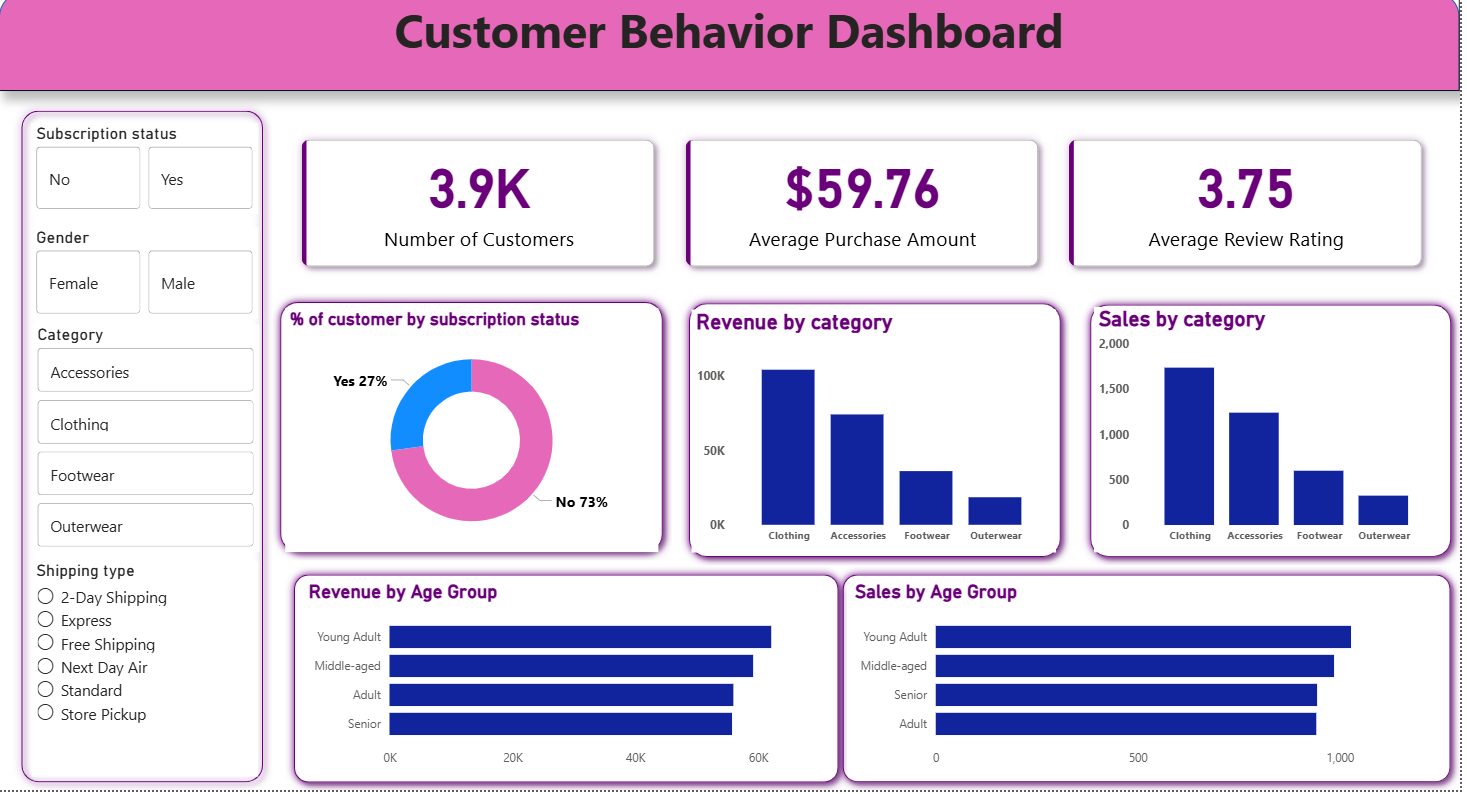

The page's visual inventory and layout, read from the dashboard file:
{"tool":"powerbi","page":{"name":"Page 1","canvas":[1500,820],"ordinal":0},"visuals":[{"type":"cardVisual","fields":{"Data":["customer_behavior customer.Number of Customers","customer_behavior customer.Average Purchase Amount","customer_behavior customer.Average Review Rating"]},"box":[293.9,135.1,1186.6,164.3],"z":0},{"type":"shape","box":[0,0,1499.9,101.7],"z":1000},{"type":"textbox","box":[0,0,1499.9,101.7],"z":2000},{"type":"shape","box":[279.9,309.2,410.8,274.4],"z":3000},{"type":"donutChart","title":"% of customer by subscription status","fields":{"Category":["customer_behavior customer.subscription_status"],"Y":["CountNonNull(customer_behavior customer.customer_id)"]},"box":[293.9,324.5,383,250.7],"z":4000},{"type":"shape","box":[699.1,310.6,399.7,278.5],"z":5000},{"type":"shape","box":[1111.4,312,388.6,277.1],"z":6000},{"type":"clusteredColumnChart","title":"Revenue by category","fields":{"Y":["Sum(customer_behavior customer.purchase_amount)"],"Category":["customer_behavior customer.category"]},"box":[711.7,325.9,374.6,249.3],"z":7000},{"type":"clusteredColumnChart","title":"Sales by category","fields":{"Y":["CountNonNull(customer_behavior customer.customer_id)"],"Category":["customer_behavior customer.category"]},"box":[1123.9,323.1,356.5,252.1],"z":8000},{"type":"shape","box":[13.9,112.8,266,707.5],"z":9000},{"type":"advancedSlicerVisual","fields":{"Values":["customer_behavior customer.gender"]},"box":[33.4,240.9,232.6,94.7],"z":10000},{"type":"advancedSlicerVisual","fields":{"Values":["customer_behavior customer.category"]},"box":[34.8,341.2,232.6,234],"z":11000},{"type":"advancedSlicerVisual","fields":{"Values":["customer_behavior customer.subscription_status"]},"box":[33.4,135.1,232.6,93.3],"z":12000},{"type":"listSlicer","fields":{"Values":["customer_behavior customer.shipping_type"]},"box":[33.4,583.5,232.6,221.4],"z":13000},{"type":"shape","box":[857.9,589.1,642,231.2],"z":14000},{"type":"shape","box":[293.5,588.6,577.2,231.5],"z":15000},{"type":"clusteredBarChart","title":"Sales by Age Group","fields":{"Y":["CountNonNull(customer_behavior customer.customer_id)"],"Category":["customer_behavior customer.age_group"]},"box":[874.6,604.4,605.8,200.5],"z":15000},{"type":"clusteredBarChart","title":"Revenue by Age Group","fields":{"Y":["Sum(customer_behavior customer.purchase_amount)"],"Category":["customer_behavior customer.age_group"]},"box":[313,604.9,544.6,200.5],"z":15001}]}

Visuals, with their boxes in screenshot pixels (x1, y1, x2, y2), scaled from the page's 1500x820 canvas onto the 1467x794 screenshot:
cardVisual - customer_behavior customer.Number of Customers x customer_behavior customer.Average Purchase Amount: bbox=(287, 131, 1448, 290)
shape: bbox=(0, 0, 1466, 98)
textbox: bbox=(0, 0, 1466, 98)
shape: bbox=(274, 299, 676, 565)
"% of customer by subscription status" donutChart: bbox=(287, 314, 662, 557)
shape: bbox=(684, 301, 1075, 570)
shape: bbox=(1087, 302, 1466, 570)
"Revenue by category" clusteredColumnChart: bbox=(696, 316, 1062, 557)
"Sales by category" clusteredColumnChart: bbox=(1099, 313, 1448, 557)
shape: bbox=(14, 109, 274, 793)
advancedSlicerVisual - customer_behavior customer.gender: bbox=(33, 233, 260, 325)
advancedSlicerVisual - customer_behavior customer.category: bbox=(34, 330, 262, 557)
advancedSlicerVisual - customer_behavior customer.subscription_status: bbox=(33, 131, 260, 221)
listSlicer - customer_behavior customer.shipping_type: bbox=(33, 565, 260, 779)
shape: bbox=(839, 570, 1466, 793)
shape: bbox=(287, 570, 852, 793)
"Sales by Age Group" clusteredBarChart: bbox=(855, 585, 1448, 779)
"Revenue by Age Group" clusteredBarChart: bbox=(306, 586, 839, 780)
